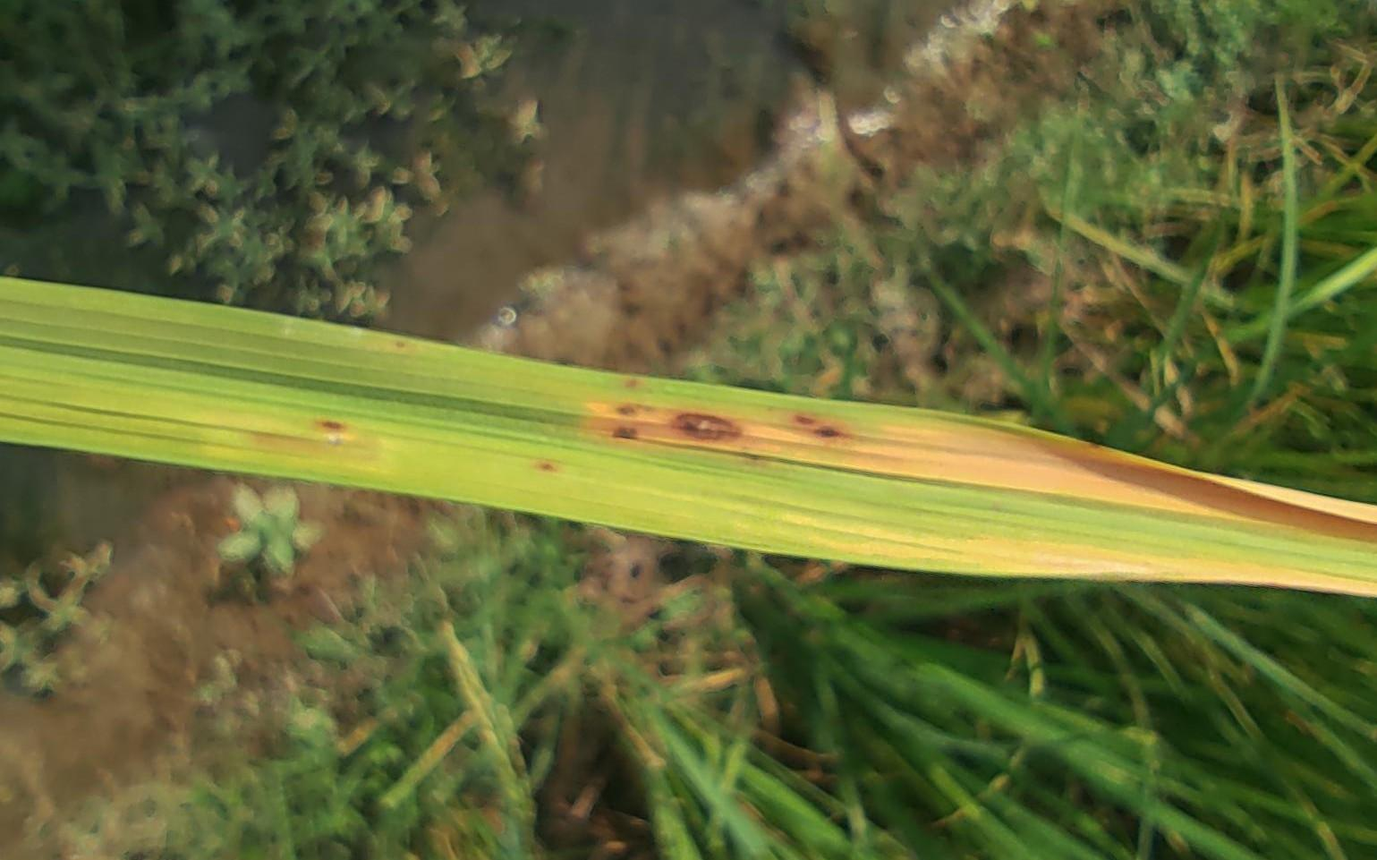LEAF: (0, 277, 1376, 596)
LEAF BLAST: (668, 412, 744, 444)
